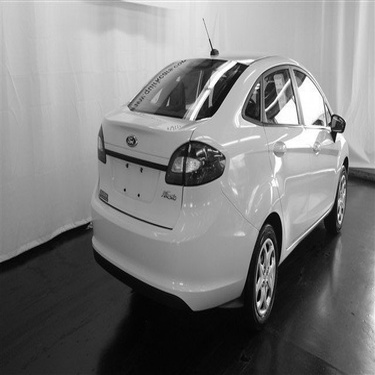car: (84, 14, 353, 323)
